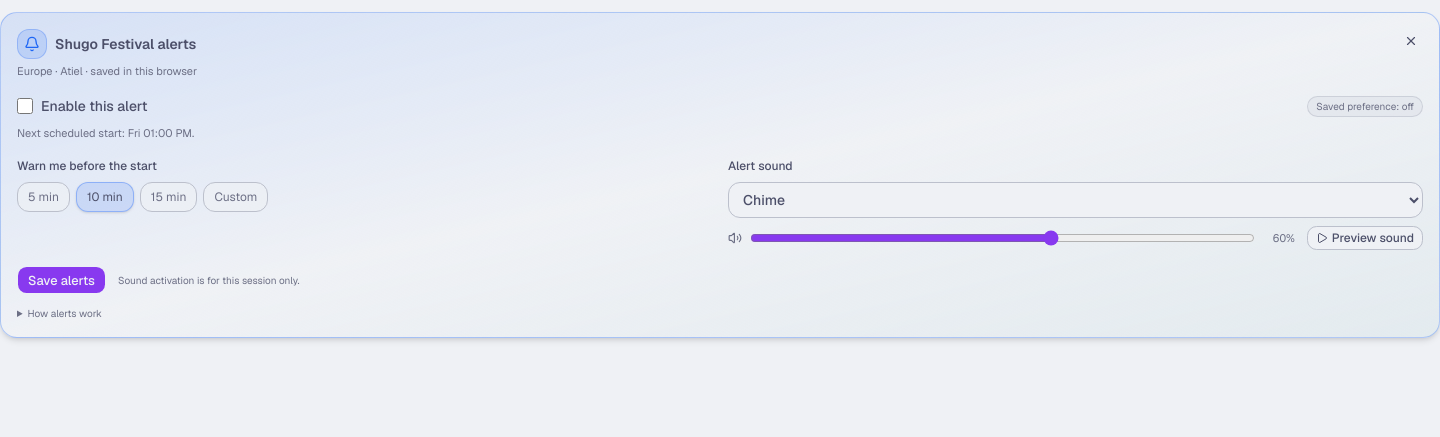
Test: validates custom minutes and accepts a zero-minute start reminder
The width and height of the screenshot is (1440, 437).
Step 1. Click the button "Custom" → (236, 197), box x1=203 y1=182 x2=268 y2=212
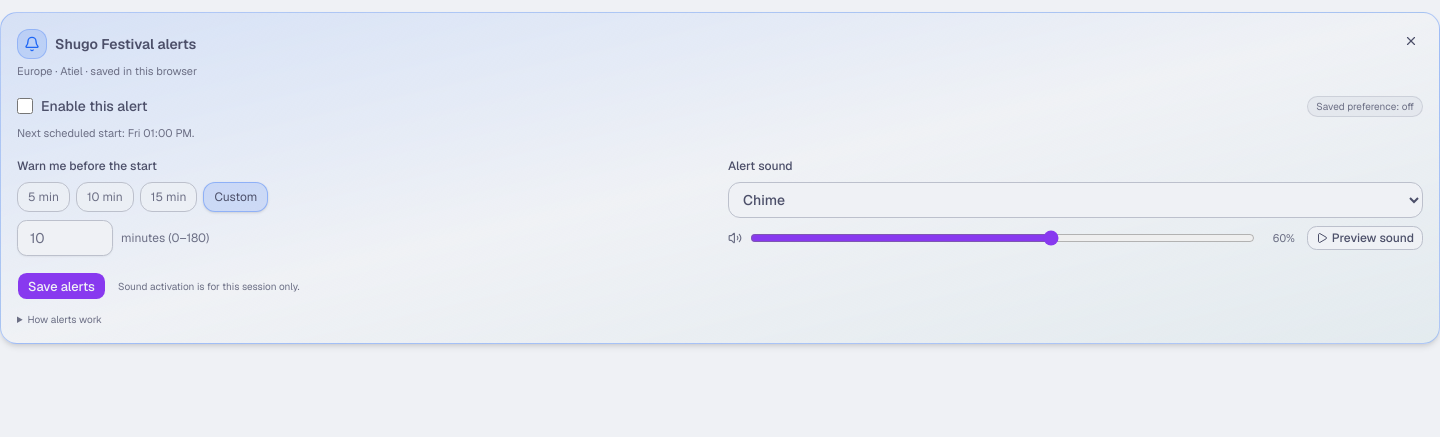
Step 2. Replace the text in the number field named "Minutes before event" with "181" → (65, 238), box x1=17 y1=220 x2=113 y2=256
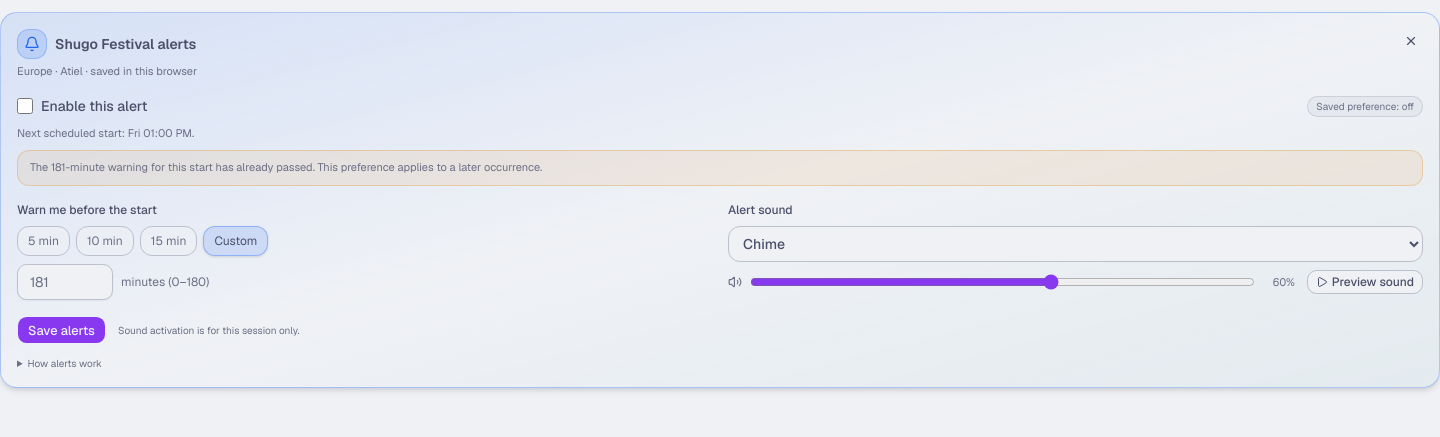
Step 3. Submit the form named "Shugo Festival alert preferences"
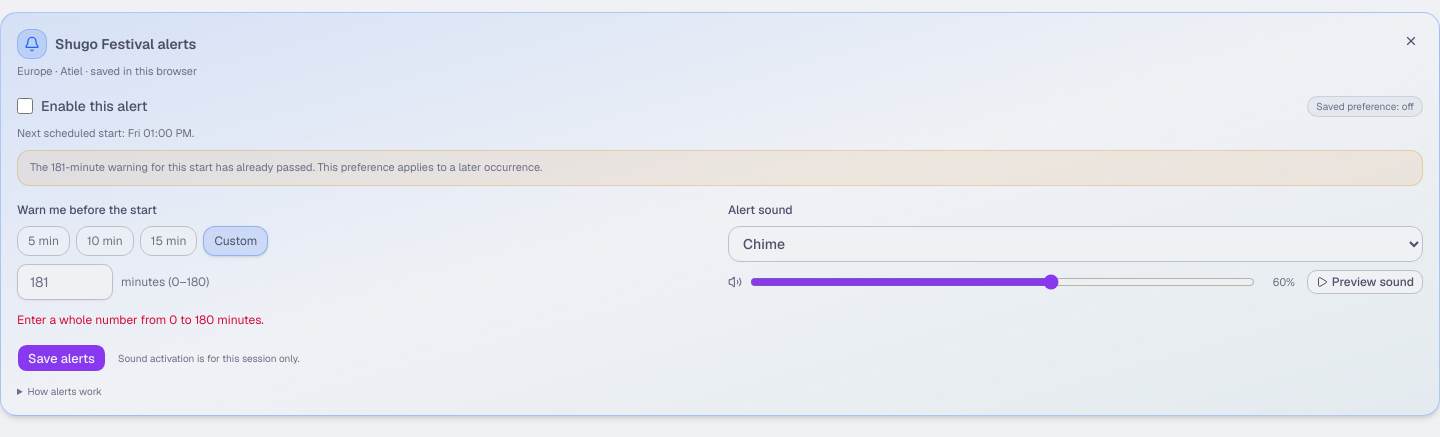
Check: the text "Enter a whole number from 0 to 180 minutes." is shown, box x1=17 y1=312 x2=264 y2=328
Step 4. Replace the text in the number field named "Minutes before event" with "0" → (65, 282), box x1=17 y1=264 x2=113 y2=300
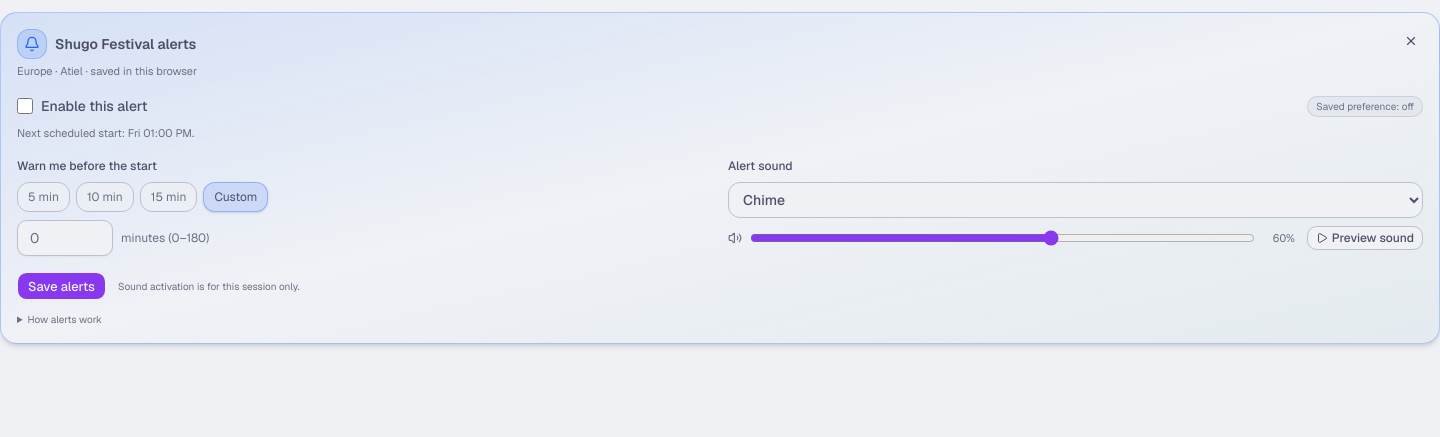
Step 5. Click the button "Save alerts" → (61, 286), box x1=17 y1=272 x2=106 y2=300
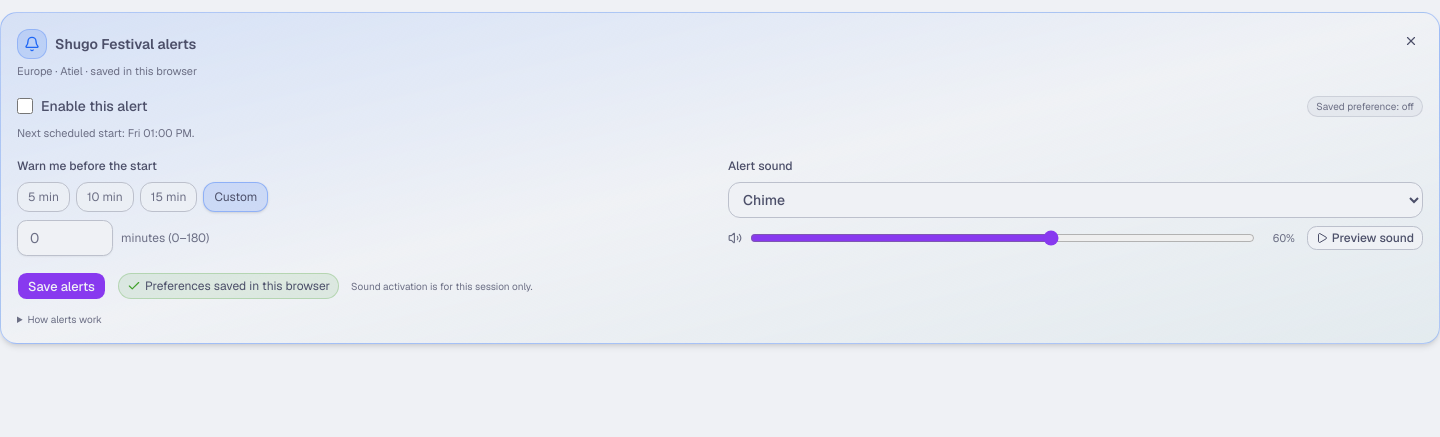
Check: the text "Preferences saved in this browser" is shown, box x1=118 y1=273 x2=339 y2=299
